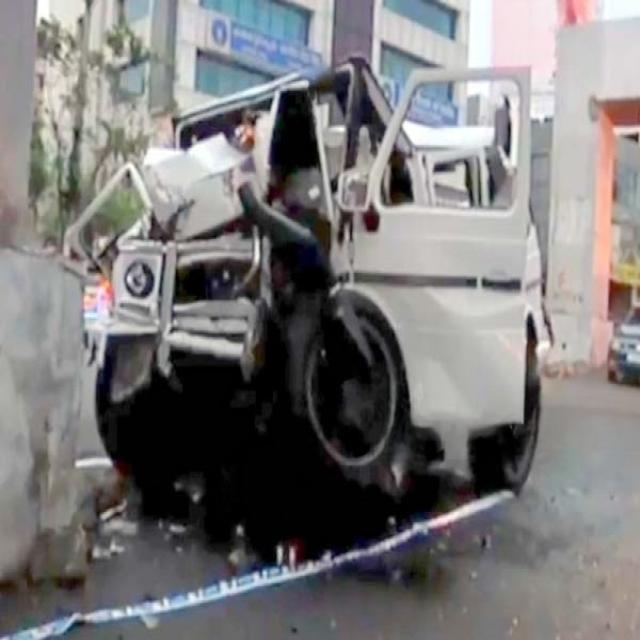accident: (66, 60, 544, 556)
